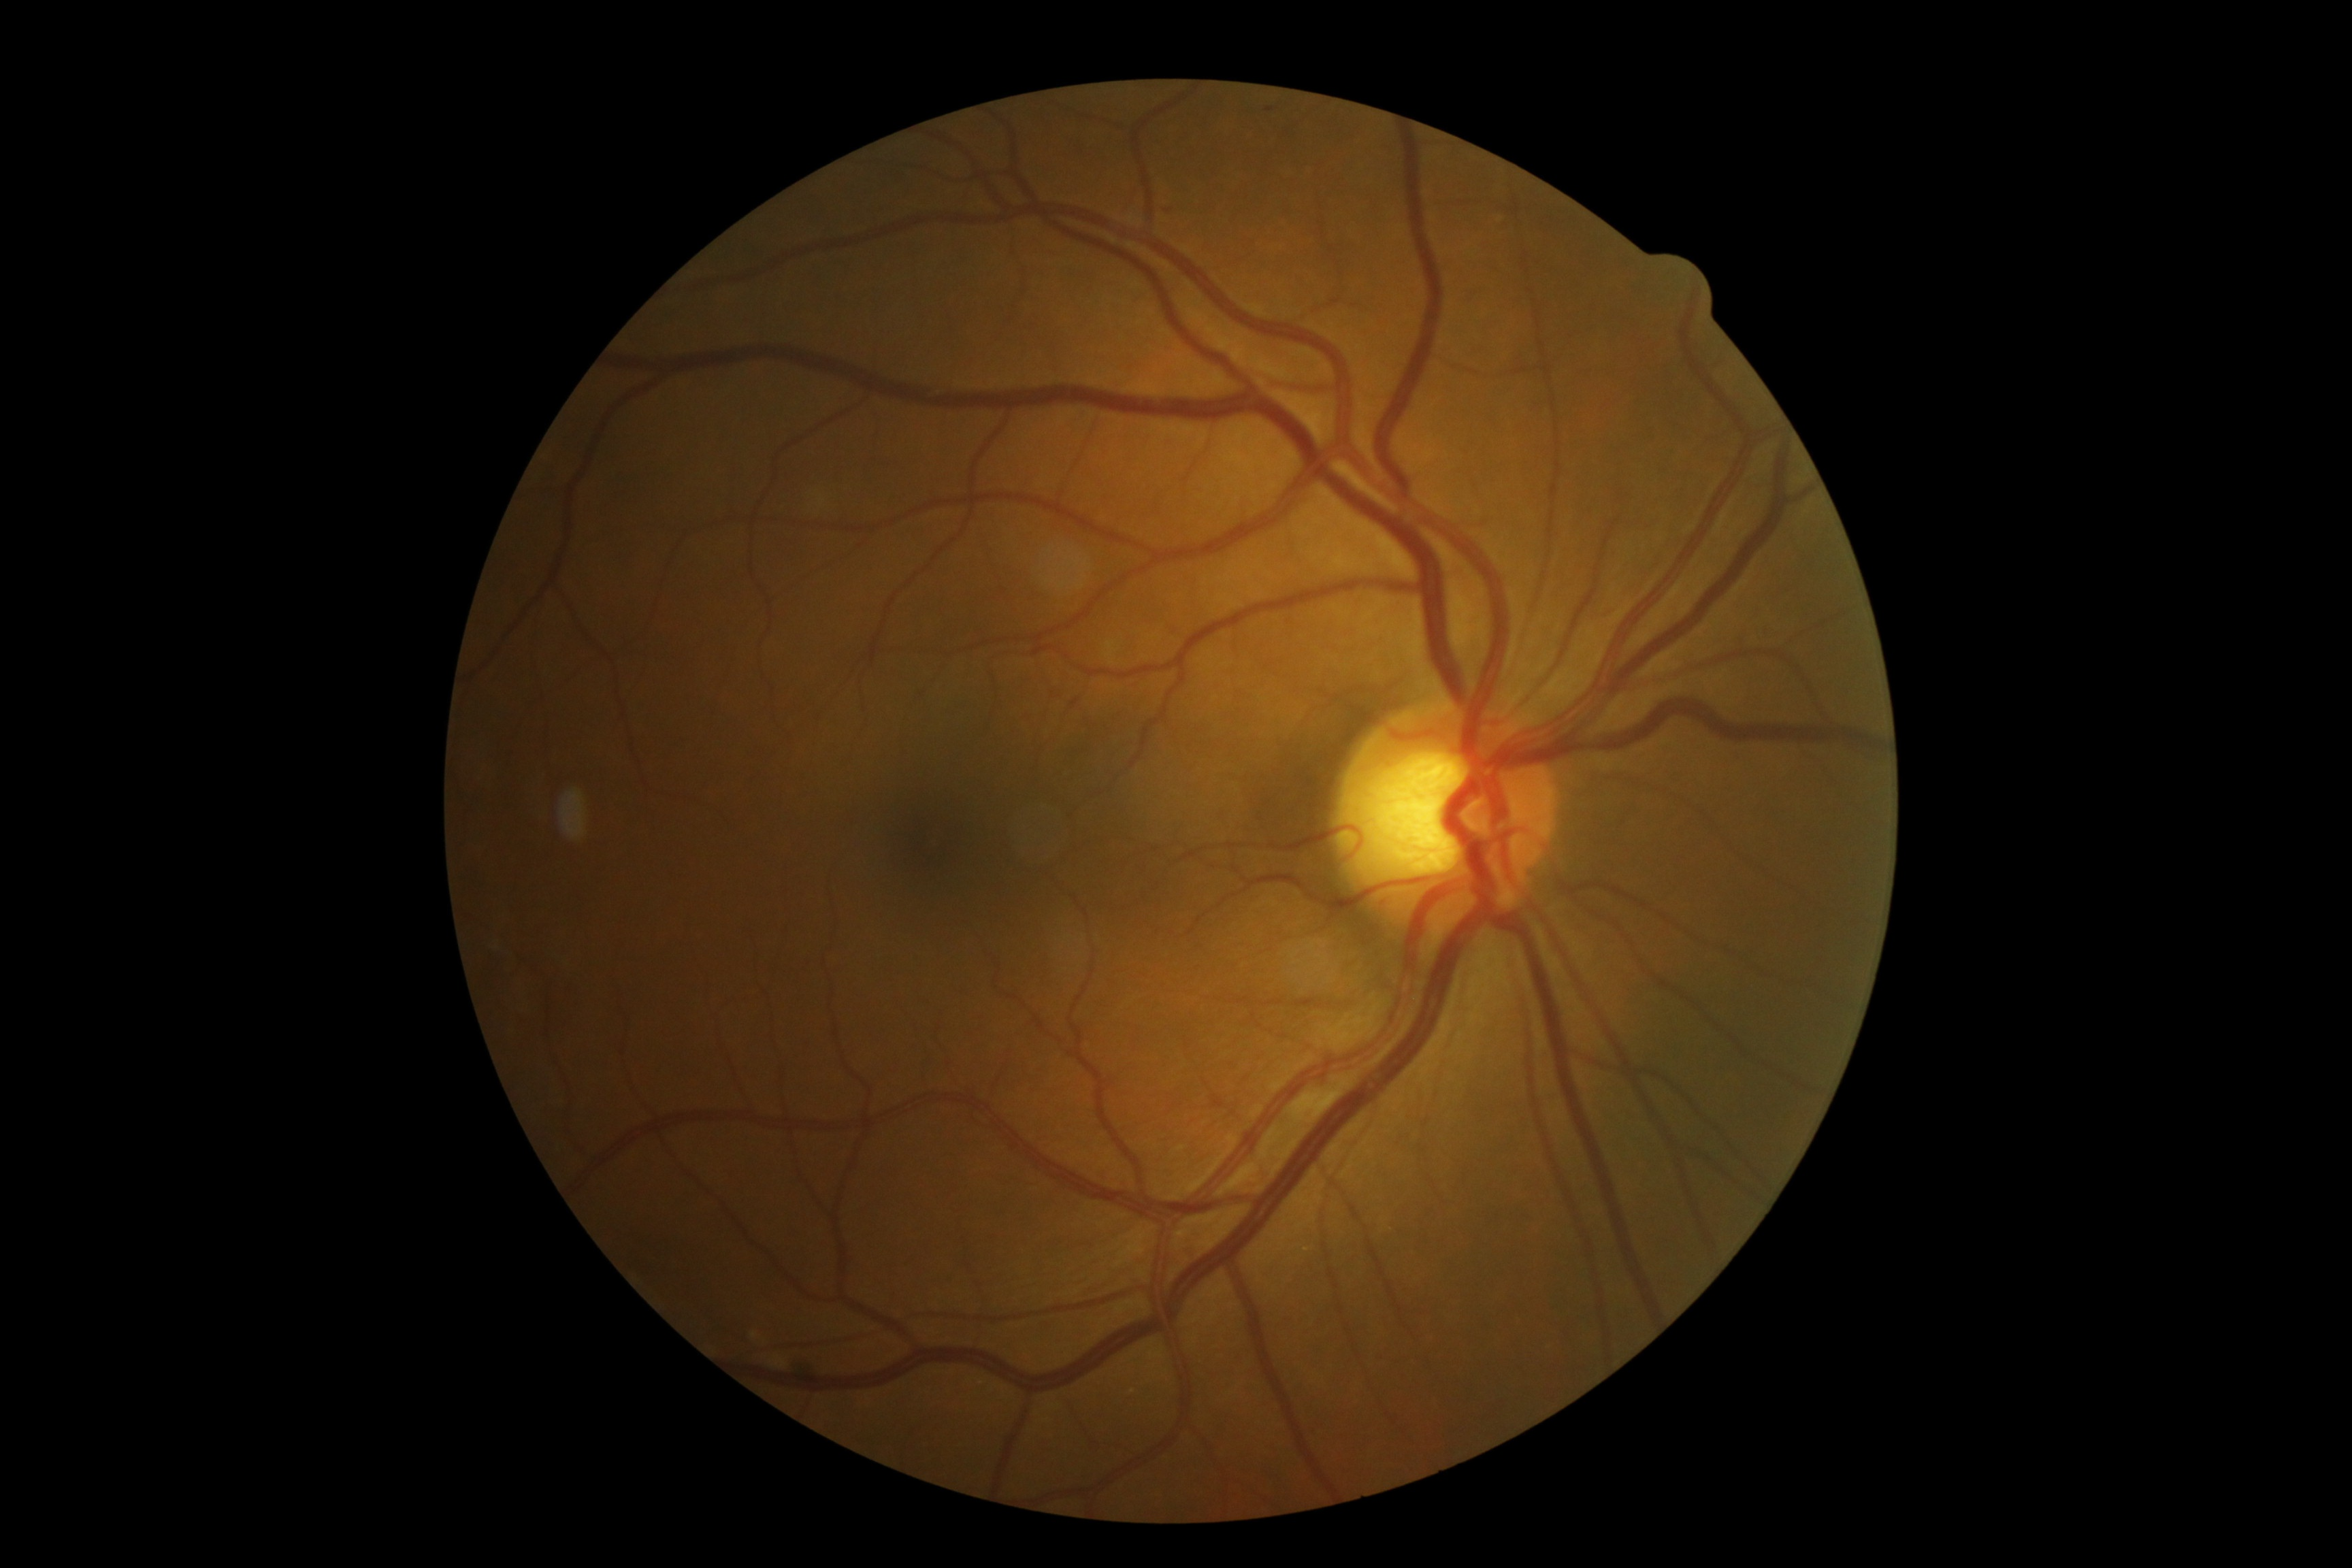Fovea: (838, 772, 1029, 922)
OD: (1309, 686, 1573, 949)
